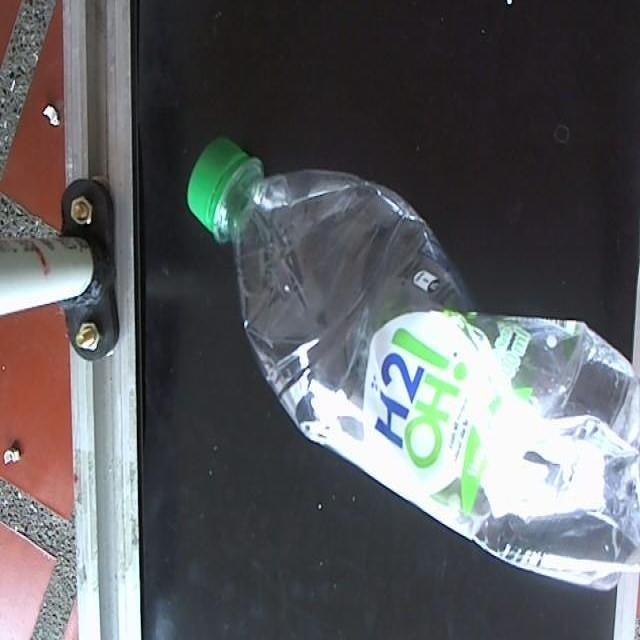defect: (183, 132, 640, 594)
